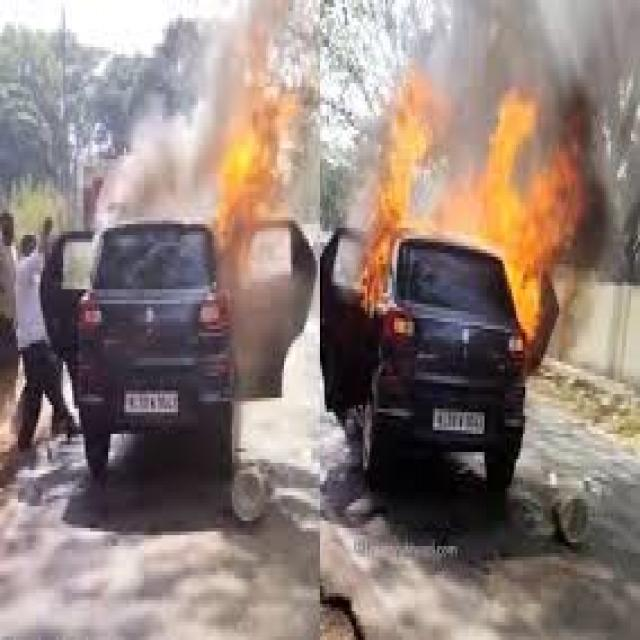fire: (480, 83, 590, 340), (358, 87, 451, 300), (212, 105, 293, 260)
smoke: (92, 3, 332, 220)
